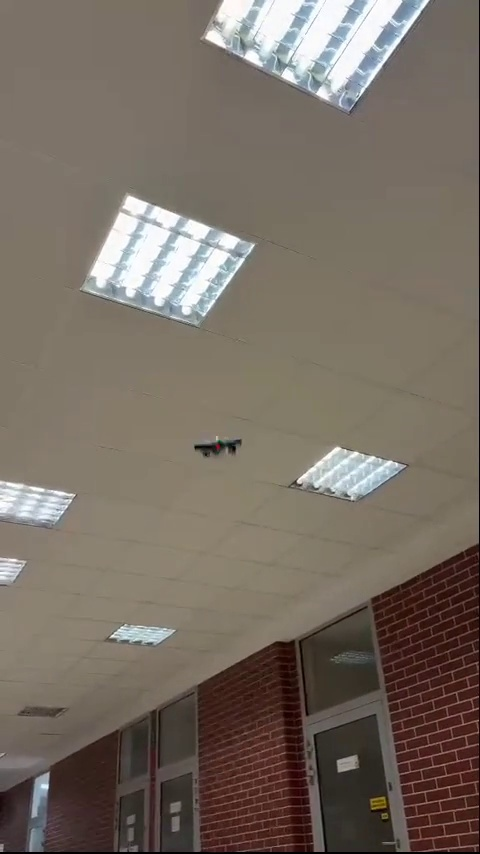drone: (194, 437, 248, 461)
